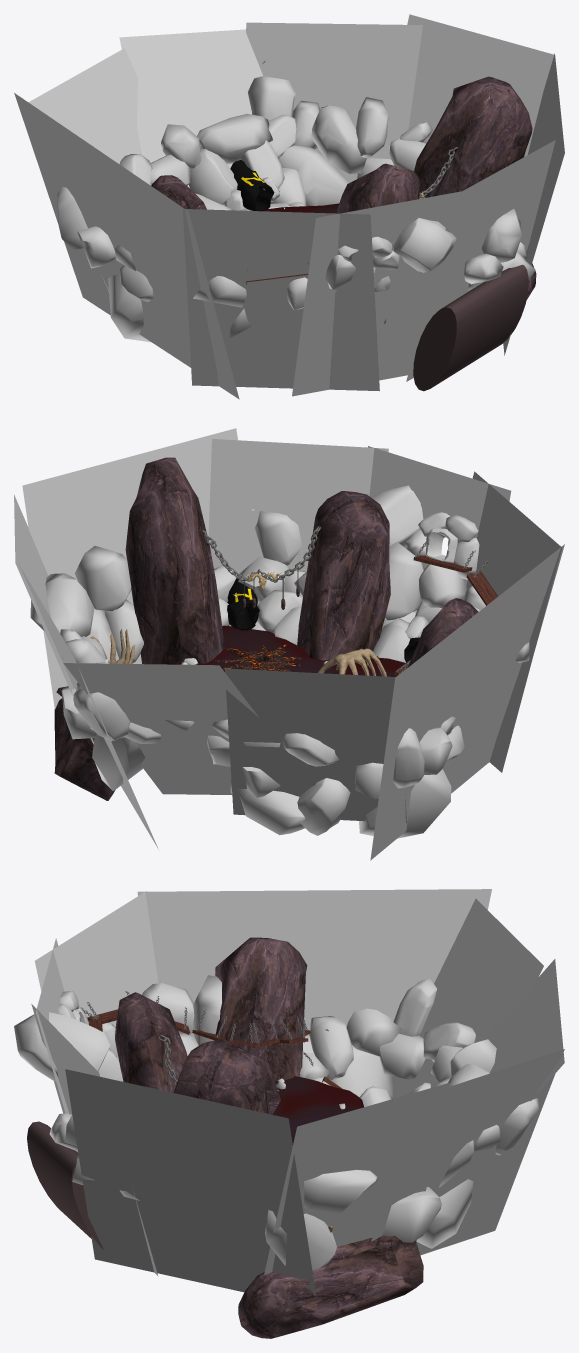
Rendered from MapCombined3rdPassUNCOMB.fbx.
3 renders of one model, top to bottom at view 1: azimuth 30°, elevation 25°; view 2: azimuth 150°, elevation 25°; view 3: azimuth 270°, elevation 25°, orthographic. The views are drawn at different scales.
Parts seen in each view (by area): view 1: WallBG2, WallBG48, WallBG3, WallBG41, RockWall42, RockPillar3, WallBG50, GroundRamp1, RockWall40, WallBG1, WallBG49, RockPillar2 (+27 smaller); view 2: WallBG48, RockWall40, RockPillar3, WallBG1, WallBG49, RockWall42, RockPillar2, WallBG2, WallBG3, PlayablePlatform1, RockWall122, RockPillar16 (+37 smaller); view 3: WallBG49, WallBG48, WallBG50, WallBG41, RockPillar16, RockWall40, RockPillar1, WallBG2, RockPillar3, RockPillar2, RockWall42, GroundRamp1 (+20 smaller).
Part boxes in pixels (left/top/right/bottom): WallBG2: left=183, top=209, right=379, bottom=391; WallBG48: left=14, top=93, right=239, bottom=399; WallBG3: left=292, top=190, right=469, bottom=396; WallBG41: left=246, top=22, right=422, bottom=182; RockWall42: left=119, top=29, right=262, bottom=210; RockPillar3: left=414, top=76, right=532, bottom=197; WallBG50: left=407, top=14, right=553, bottom=156; GroundRamp1: left=413, top=264, right=528, bottom=391; RockWall40: left=28, top=48, right=142, bottom=291; WallBG1: left=406, top=140, right=555, bottom=381; WallBG49: left=503, top=53, right=564, bottom=355; RockPillar2: left=336, top=163, right=420, bottom=213; WallBG48: left=370, top=544, right=564, bottom=860; RockWall40: left=224, top=668, right=406, bottom=823; RockPillar3: left=125, top=457, right=224, bottom=664; WallBG1: left=208, top=439, right=388, bottom=626; WallBG49: left=22, top=428, right=237, bottom=709; RockWall42: left=63, top=663, right=258, bottom=794; RockPillar2: left=297, top=491, right=390, bottom=660; WallBG2: left=457, top=471, right=561, bottom=772; WallBG3: left=367, top=446, right=511, bottom=585; PlayablePlatform1: left=173, top=625, right=405, bottom=676; RockWall122: left=75, top=546, right=131, bottom=611; RockPillar16: left=54, top=686, right=115, bottom=800; WallBG49: left=65, top=1069, right=316, bottom=1296; WallBG48: left=137, top=889, right=491, bottom=1035; WallBG50: left=264, top=1082, right=449, bottom=1274; WallBG41: left=371, top=1049, right=564, bottom=1255; RockPillar16: left=238, top=1235, right=423, bottom=1338; RockWall40: left=392, top=898, right=543, bottom=1098; RockPillar1: left=215, top=937, right=307, bottom=1081; WallBG2: left=34, top=891, right=158, bottom=1026; RockPillar3: left=173, top=1039, right=280, bottom=1114; RockPillar2: left=115, top=992, right=187, bottom=1092; RockWall42: left=483, top=959, right=564, bottom=1101; GroundRamp1: left=27, top=1121, right=103, bottom=1249.
Size of the model in its own units: 2349 by 1295 by 2351.
